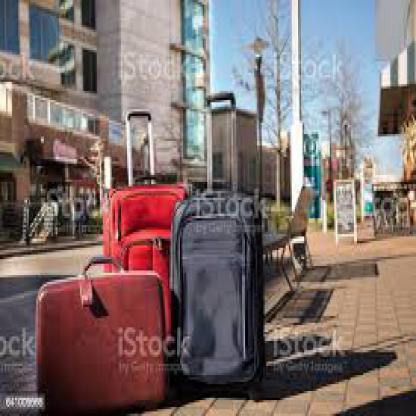maleta: (166, 184, 276, 402), (28, 266, 182, 409), (98, 180, 197, 338)
